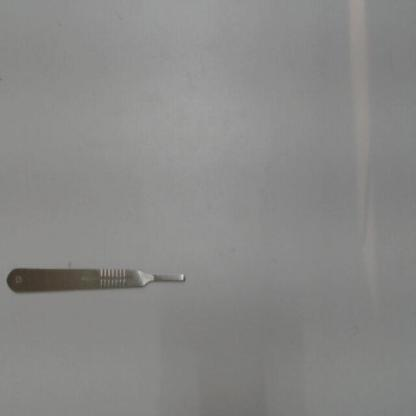No.4 BP Handle: (3, 260, 191, 303)
